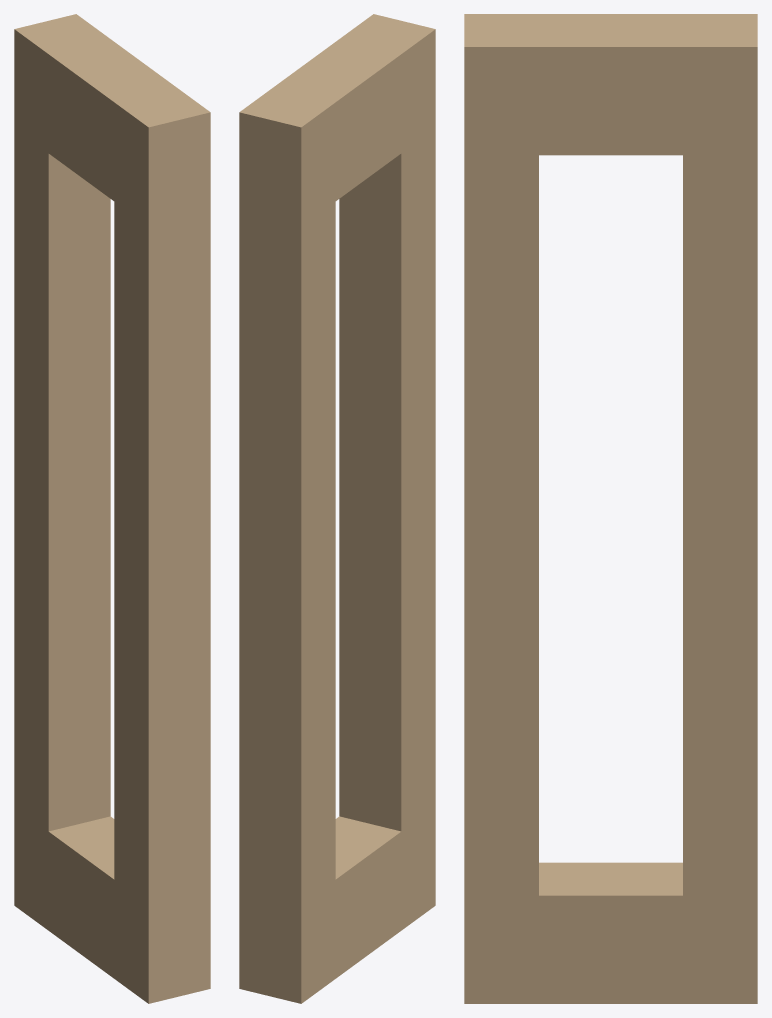
File: Building Frame 6.fbx
3 views of the same model, side by side, from view 1: azimuth 30°, elevation 25°; view 2: azimuth 150°, elevation 25°; view 3: azimuth 270°, elevation 25° (orthographic). The views are drawn at different scales.
Parts seen in each view (by area): view 1: Building Frame 6; view 2: Building Frame 6; view 3: Building Frame 6.
Boxes of the visible parts, <box> form: Building Frame 6: <box>14,14,210,1003</box>; Building Frame 6: <box>239,14,435,1003</box>; Building Frame 6: <box>464,14,757,1003</box>.
Bounding box in the file's own units: 0.05 × 0.675 × 0.1875.
